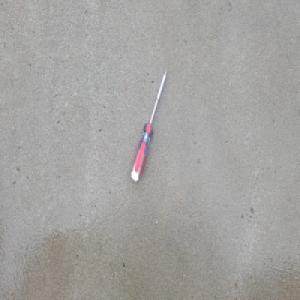Screwdriver: (130, 65, 169, 184)
